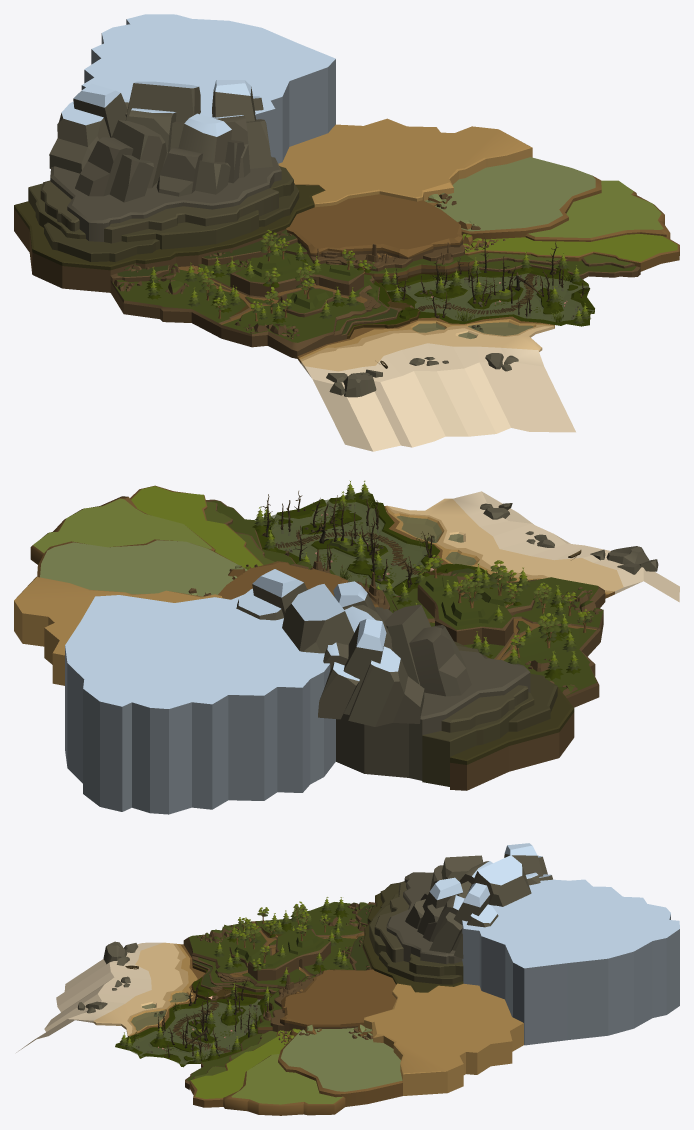
The model's file is DetailedBiomesLocations.fbx.
3 renders of one model, top to bottom at view 1: azimuth 30°, elevation 25°; view 2: azimuth 150°, elevation 25°; view 3: azimuth 270°, elevation 25°, orthographic. The views are drawn at different scales.
Visible parts, largest first — view 1: Line007, Line004, Box001, Line006, Line016, Object17521, Line018, Line019, Line020, Line021, Object17538, Object17509 (+6 smaller); view 2: Line006, Box001, Line004, Line016, Object17521, Line007, Line018, Line020, Line021, Line019, Object17538, forest_rosks_051 (+5 smaller); view 3: Line006, Line016, Line018, Object17521, Line007, Box001, Line004, Line019, Line020, Line021, forest_rosks_051, Object17538 (+5 smaller).
Part boxes in pixels (x1,y1,x2,y2): Line007: [297, 316, 575, 451]; Line004: [14, 156, 324, 292]; Box001: [49, 80, 272, 202]; Line006: [81, 14, 335, 163]; Line016: [425, 157, 679, 271]; Object17521: [110, 233, 410, 358]; Line018: [278, 118, 532, 207]; Line019: [285, 194, 462, 261]; Line020: [379, 267, 594, 326]; Line021: [386, 273, 594, 322]; Object17538: [478, 260, 640, 279]; Object17509: [322, 254, 474, 282]; Line006: [65, 594, 335, 814]; Box001: [236, 569, 471, 726]; Line004: [336, 641, 574, 790]; Line016: [30, 485, 263, 596]; Object17521: [391, 564, 605, 707]; Line007: [384, 491, 679, 602]; Line018: [14, 576, 222, 685]; Line020: [257, 492, 442, 596]; Line021: [270, 499, 427, 596]; Line019: [218, 561, 378, 607]; Object17538: [205, 499, 295, 564]; forest_rosks_051: [525, 587, 602, 695]; Line006: [462, 879, 679, 1045]; Line016: [189, 1027, 402, 1115]; Line018: [364, 983, 523, 1095]; Object17521: [183, 902, 375, 1000]; Line007: [16, 942, 205, 1052]; Box001: [405, 843, 552, 958]; Line004: [362, 872, 463, 992]; Line019: [280, 969, 396, 1031]; Line020: [115, 995, 269, 1067]; Line021: [131, 999, 261, 1064]; forest_rosks_051: [197, 902, 367, 958]; Object17538: [185, 1033, 264, 1089].
Size of the model in its own units: 2719 by 824 by 3557.
